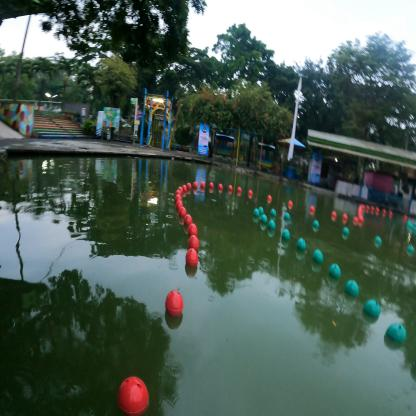green_buoy: (386, 320, 404, 353), (363, 298, 380, 324), (344, 280, 360, 303), (328, 262, 342, 286), (296, 239, 307, 259), (313, 251, 323, 271), (268, 221, 276, 238), (282, 232, 290, 248), (312, 221, 321, 235), (262, 215, 268, 230), (254, 210, 260, 224), (271, 209, 277, 222), (284, 212, 290, 224), (374, 237, 380, 249), (342, 229, 348, 240)
red_buoy: (116, 378, 148, 416), (165, 286, 185, 322), (185, 248, 199, 275), (188, 236, 200, 254), (178, 209, 188, 224), (188, 223, 196, 238), (185, 214, 191, 232), (176, 185, 184, 197), (308, 204, 314, 219), (176, 203, 183, 213), (332, 208, 337, 222), (186, 181, 191, 193), (248, 188, 252, 202), (237, 184, 241, 198), (175, 193, 180, 203), (227, 184, 231, 196), (288, 199, 292, 210), (209, 181, 213, 192), (200, 180, 204, 190), (192, 181, 196, 191), (267, 195, 271, 203), (183, 184, 186, 194), (218, 184, 222, 191)
